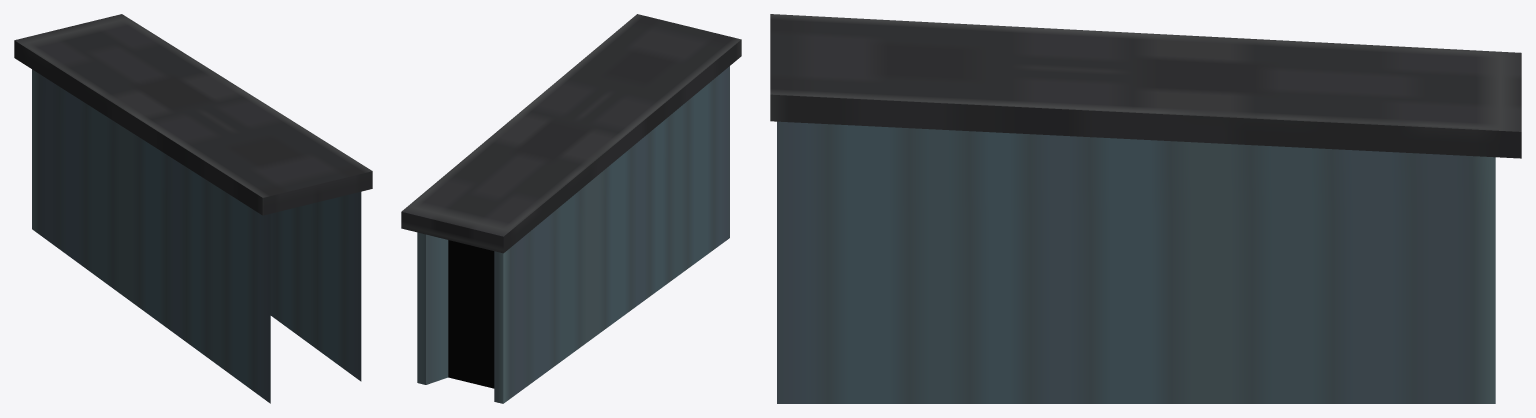
The model's file is roof_window_v5b001.fbx.
The picture shows the model from 3 angles, left to right: view 1: azimuth 30°, elevation 25°; view 2: azimuth 150°, elevation 25°; view 3: azimuth 270°, elevation 25°; orthographic projection. The views are drawn at different scales.
Visible parts, largest first — view 1: roof_window_v5b001; view 2: roof_window_v5b001; view 3: roof_window_v5b001.
Part boxes in pixels (left/top/right/bottom): roof_window_v5b001: left=14, top=14, right=372, bottom=403; roof_window_v5b001: left=401, top=14, right=741, bottom=403; roof_window_v5b001: left=770, top=14, right=1521, bottom=403.
Bounding box in the file's own units: 89.92 × 164 × 354.
